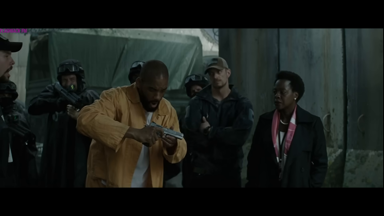firearm: (1, 111, 35, 149), (50, 78, 86, 111), (146, 117, 185, 145)
